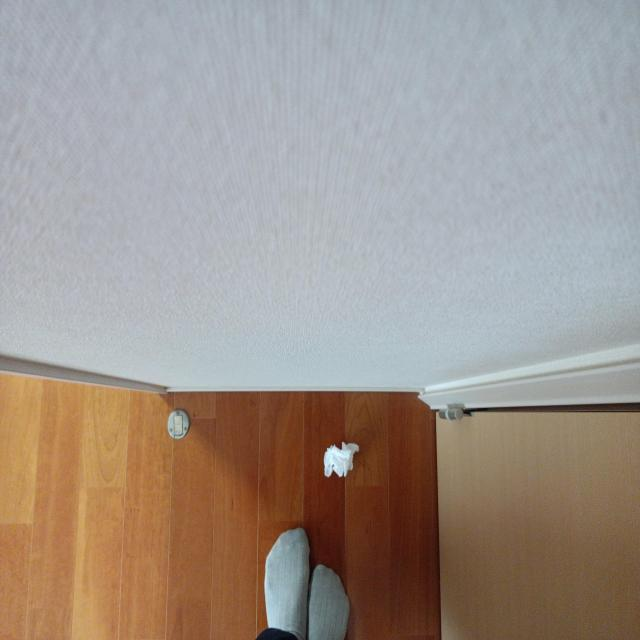衛生紙: (322, 431, 364, 487)
